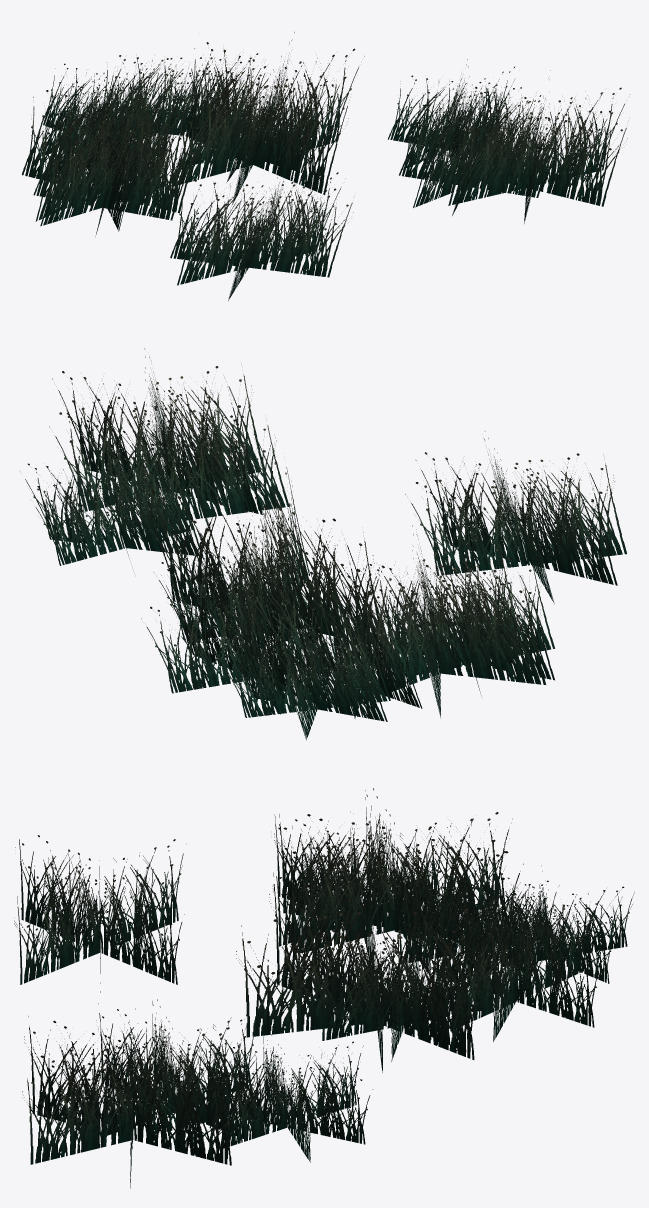
Rendered from sway_dead_grass_patch_2m.glb.
The picture shows the model from 3 angles, top to bottom: view 1: azimuth 30°, elevation 25°; view 2: azimuth 150°, elevation 25°; view 3: azimuth 270°, elevation 25°; orthographic projection. The views are drawn at different scales.
Visible parts, largest first — view 1: sway_dead_grass_patch_2m; view 2: sway_dead_grass_patch_2m; view 3: sway_dead_grass_patch_2m.
Part boxes in pixels (x1,y1,x2,y2): sway_dead_grass_patch_2m: [22, 32, 629, 300]; sway_dead_grass_patch_2m: [20, 348, 626, 740]; sway_dead_grass_patch_2m: [14, 788, 634, 1188].
Bounding box in the file's own units: 2.57 × 0.4728 × 2.02.
Materials: 1 (1 with a texture image).
